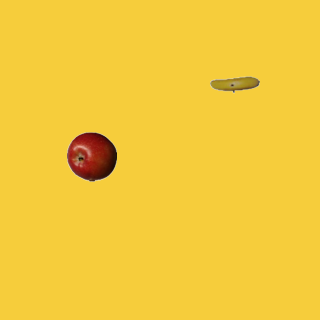Apple Braeburn: (66, 131, 116, 181)
Banana: (209, 59, 259, 109)
